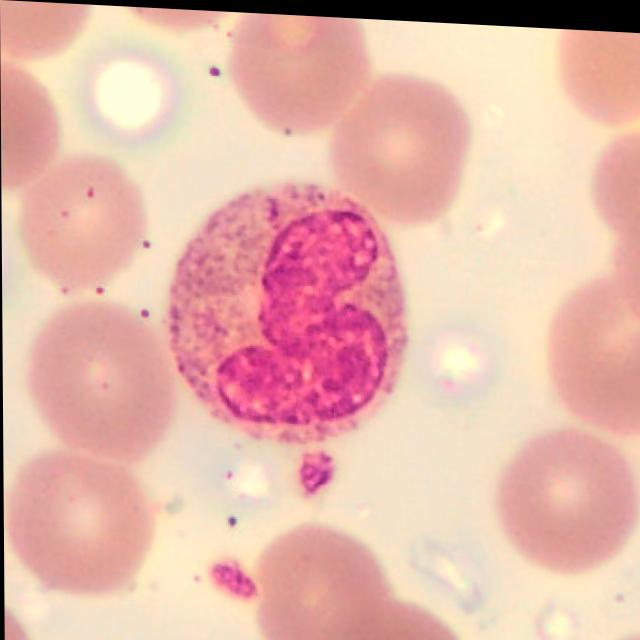Bastonete: (166, 178, 407, 442)
